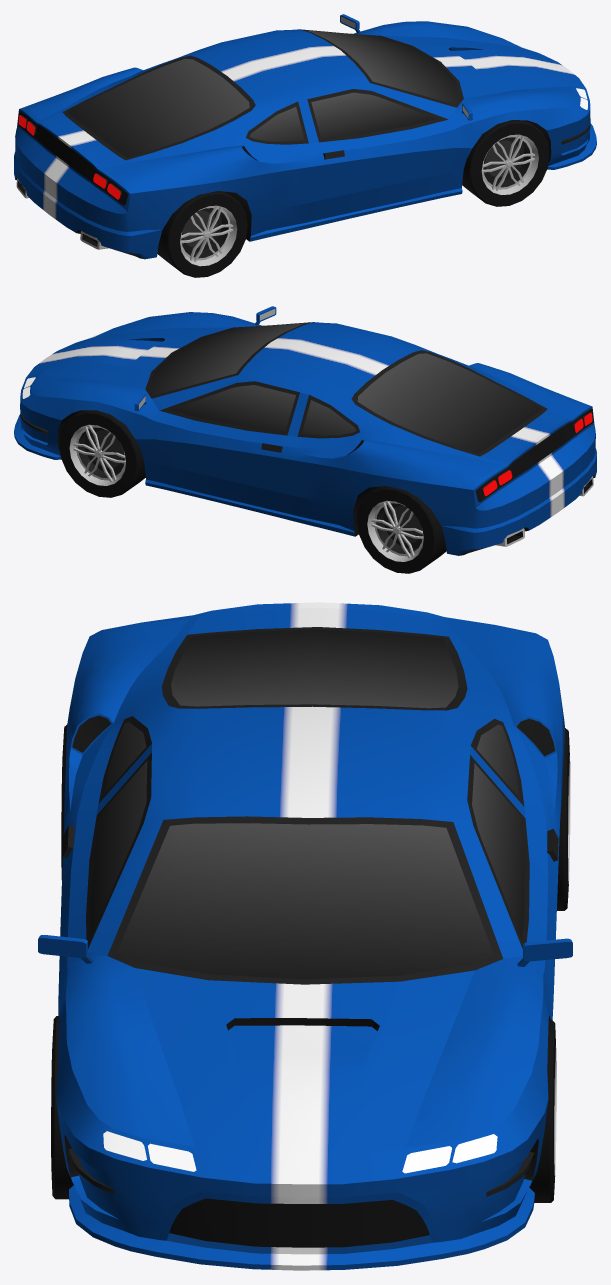
Rendered from Car_207.glb.
3 views of the same model, one above another, from view 1: azimuth 30°, elevation 25°; view 2: azimuth 150°, elevation 25°; view 3: azimuth 270°, elevation 25° (orthographic). The views are drawn at different scales.
Parts seen in each view (by area): view 1: Car_207, wheel_3_Car_207_Wheel_2R, wheel_1_Car_207_Wheel_1R; view 2: Car_207, wheel_2_Car_207_Wheel_2L, wheel_0_Car_207_Wheel_1L; view 3: Car_207, wheel_0_Car_207_Wheel_1L, wheel_1_Car_207_Wheel_1R, wheel_2_Car_207_Wheel_2L.
Boxes of the visible parts, x1,y1,x2,y2 form: Car_207: [14, 14, 596, 259]; wheel_3_Car_207_Wheel_2R: [157, 191, 247, 277]; wheel_1_Car_207_Wheel_1R: [462, 120, 549, 206]; Car_207: [14, 306, 596, 555]; wheel_2_Car_207_Wheel_2L: [357, 486, 446, 573]; wheel_0_Car_207_Wheel_1L: [59, 410, 145, 497]; Car_207: [38, 602, 572, 1270]; wheel_0_Car_207_Wheel_1L: [529, 1019, 556, 1202]; wheel_1_Car_207_Wheel_1R: [51, 1016, 73, 1199]; wheel_2_Car_207_Wheel_2L: [557, 728, 570, 910].
Bounding box in the file's own units: 4.47 × 1.15 × 1.99.
3 materials, 3 textured.
